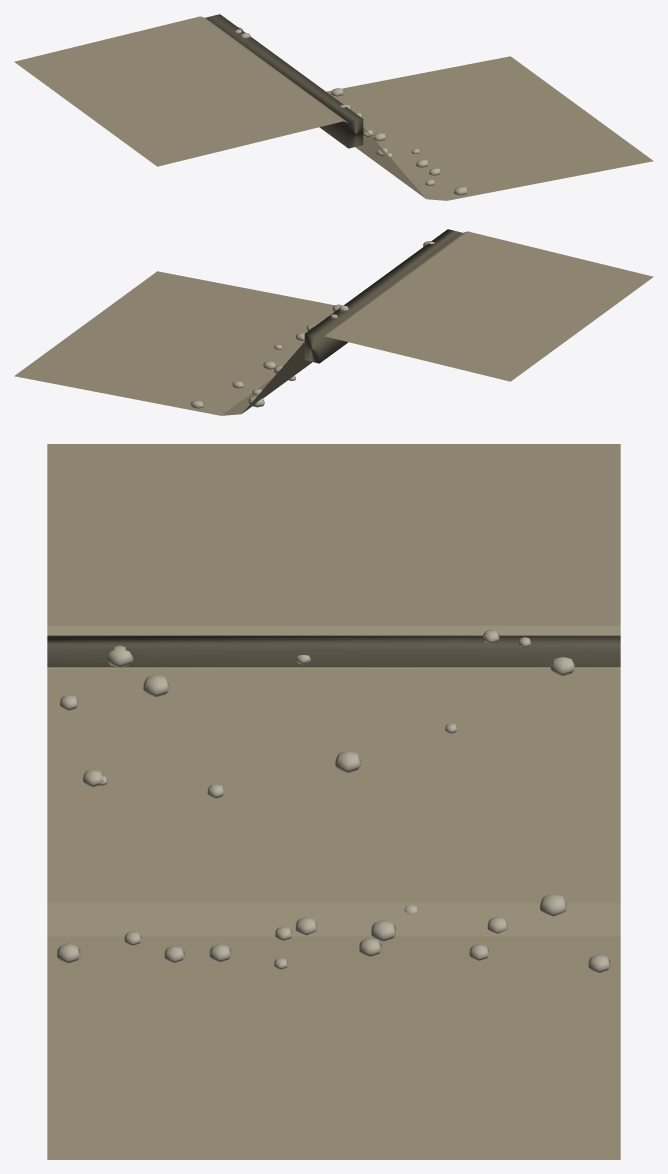
File: lake-terrace-slope-2.glb
3 renders of one model, top to bottom at view 1: azimuth 30°, elevation 25°; view 2: azimuth 150°, elevation 25°; view 3: azimuth 270°, elevation 25°, orthographic. The views are drawn at different scales.
Parts seen in each view (by area): view 1: lake-terrace-slope-2; view 2: lake-terrace-slope-2; view 3: lake-terrace-slope-2.
Boxes of the visible parts, x1,y1,x2,y2 form: lake-terrace-slope-2: (14, 14, 653, 200); lake-terrace-slope-2: (14, 229, 653, 415); lake-terrace-slope-2: (47, 444, 620, 1159).
Bounding box in the file's own units: 4 × 0.916 × 2.
